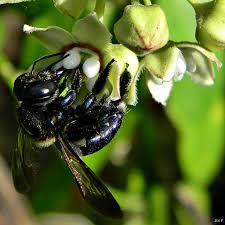Xylocopa: (13, 51, 148, 212)
